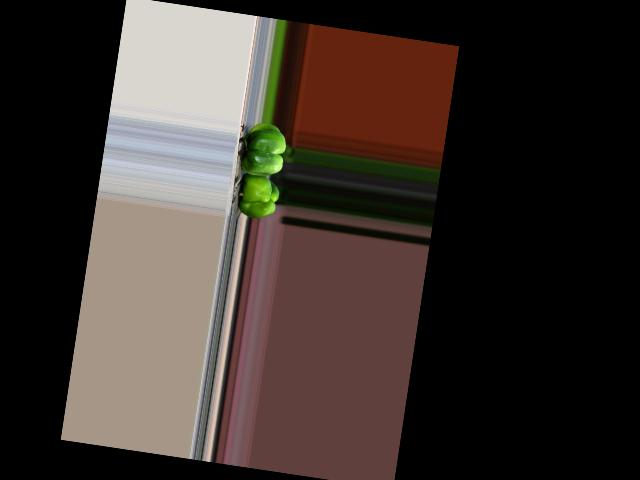bell_pepper: (233, 171, 283, 222)
